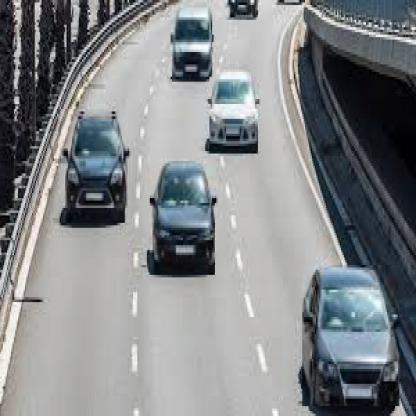car: (302, 266, 400, 410), (58, 110, 131, 226), (149, 162, 216, 278), (209, 68, 259, 157), (170, 9, 213, 81)
